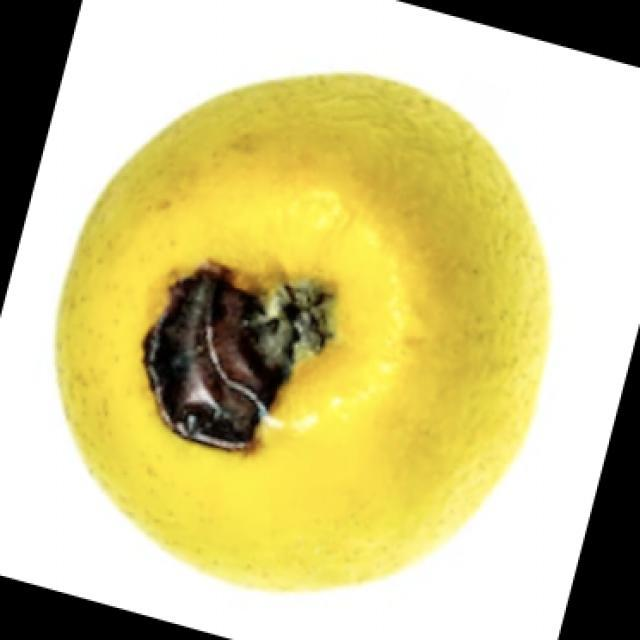Rotten: (81, 79, 546, 598)
